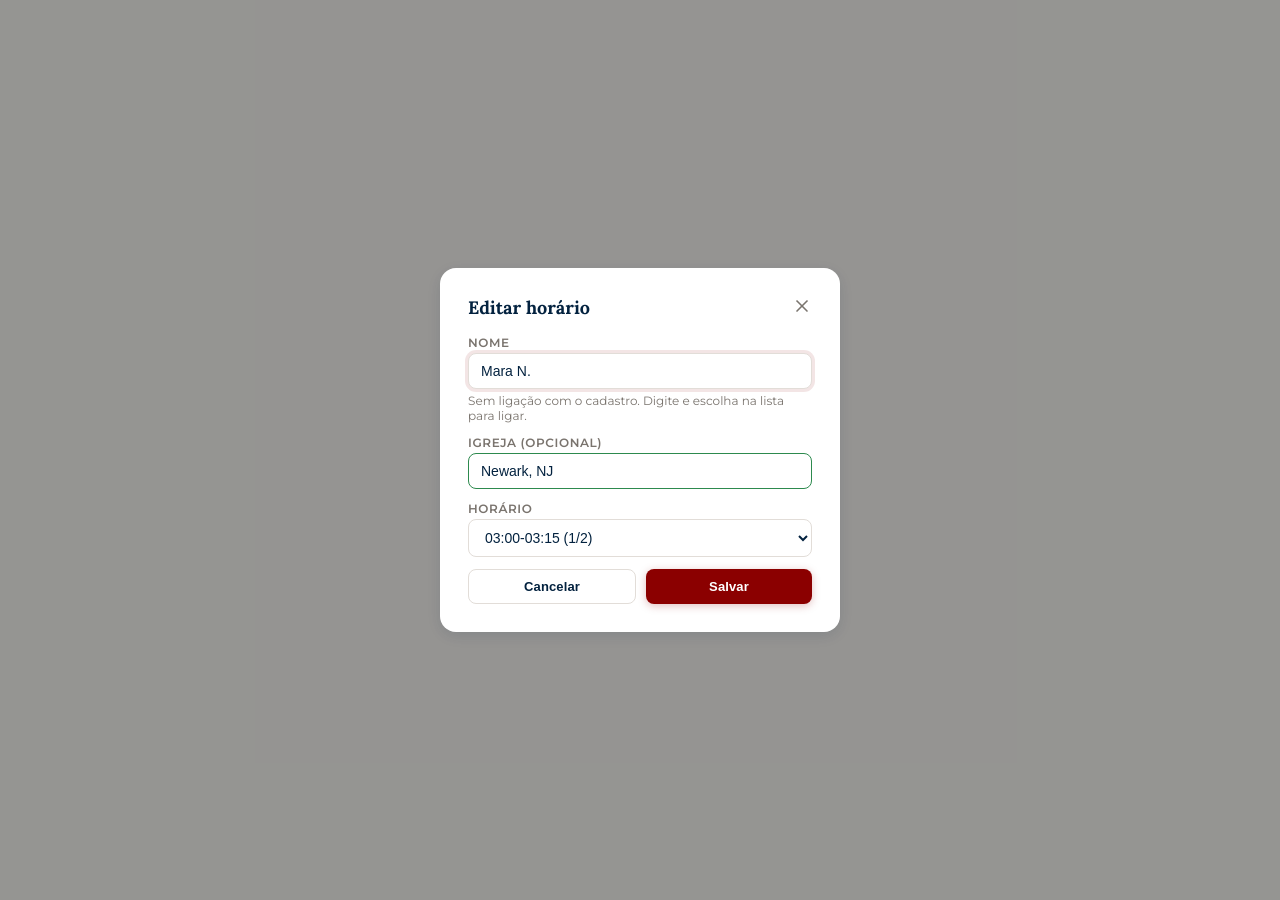
it: admin: edit one person of a prayer list › refuses a slot that filled up in the meantime, without saving
The image size is (1280, 900).
Select "05:00-05:15 (1/2)" in the dropdown labelled "Horário": (640, 538) [468,519,812,557]
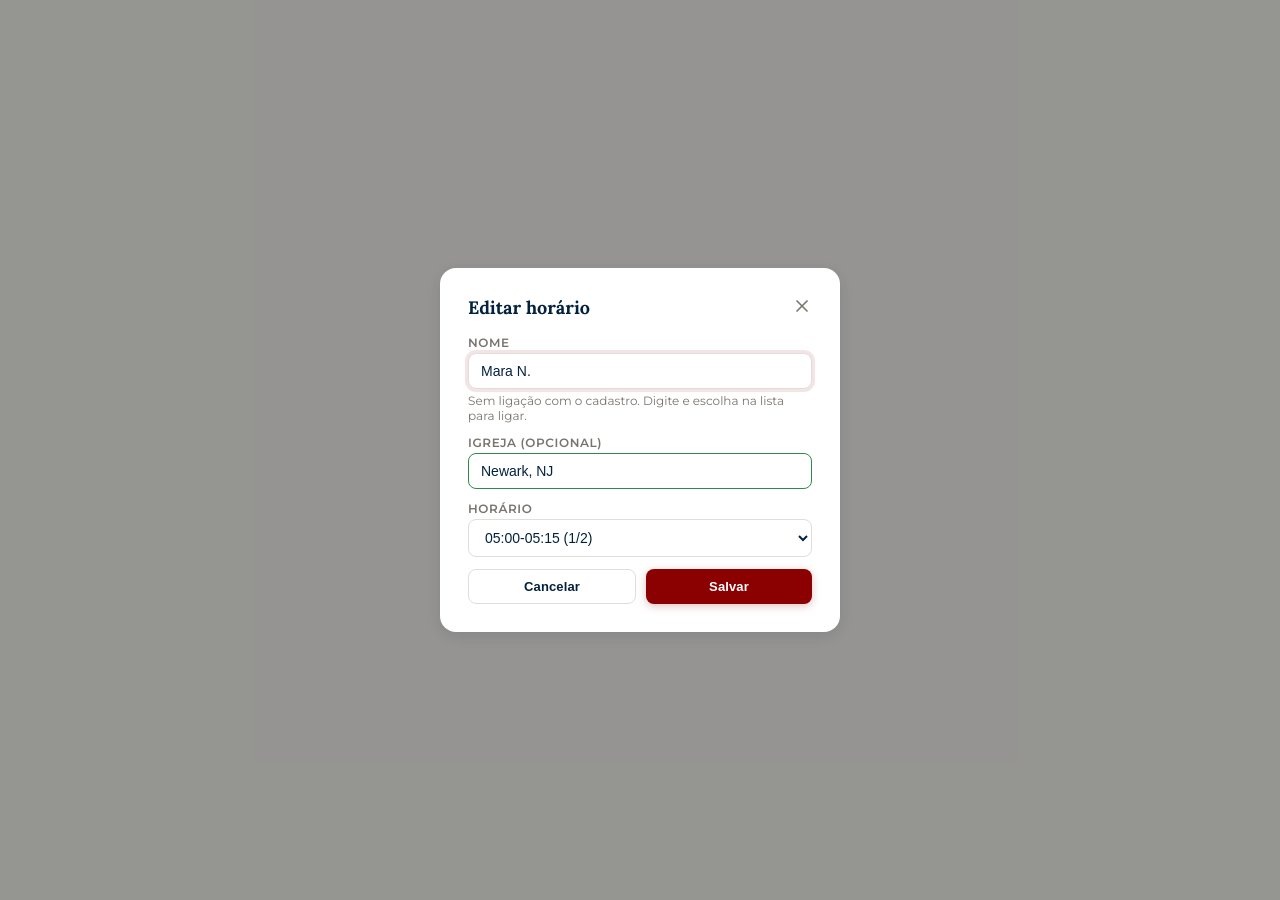
Click the button "Salvar": click(729, 586) [646,569,812,604]
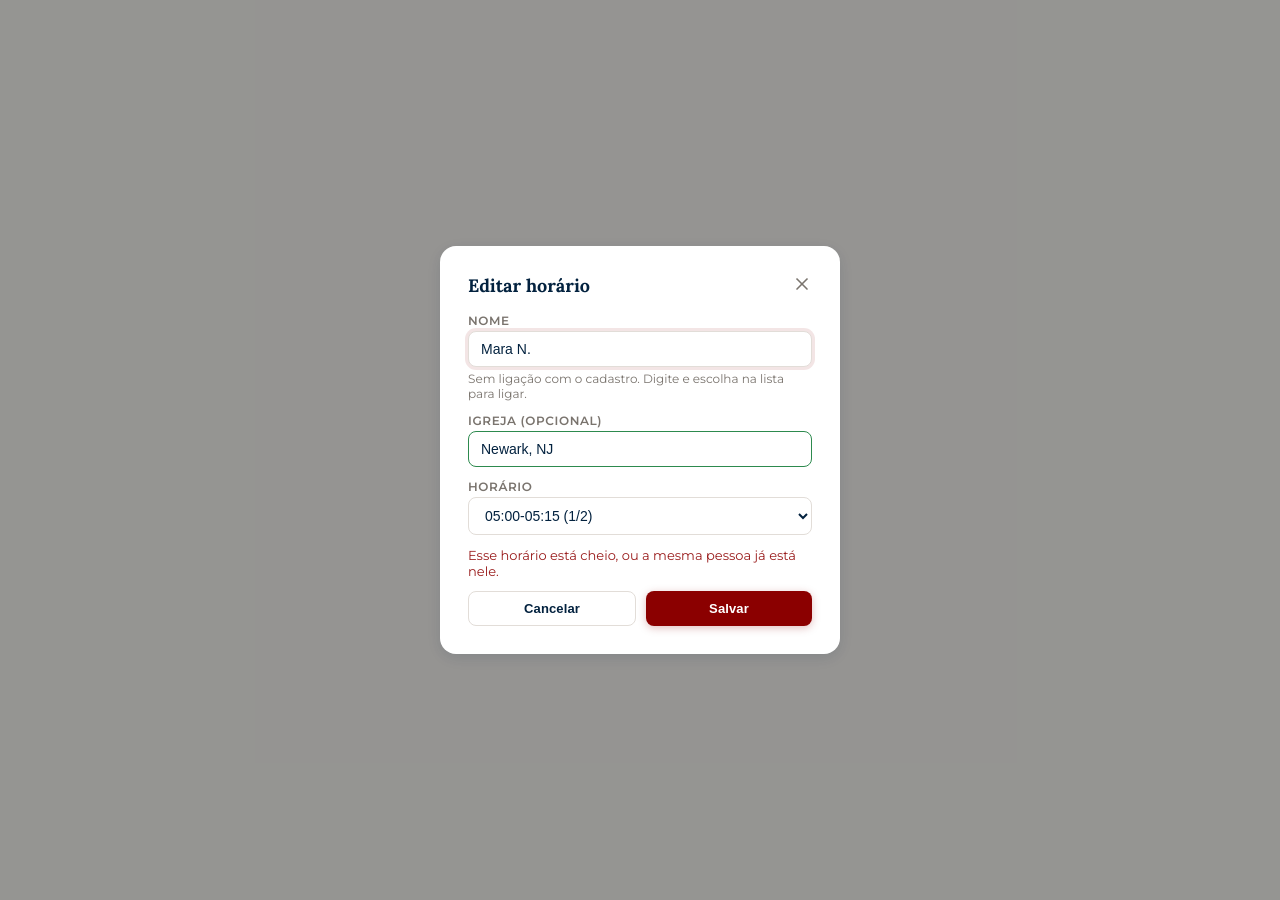
Check: the message reads "Esse horário está cheio, ou a mesma pessoa já está nele.", box [468,547,796,579]
